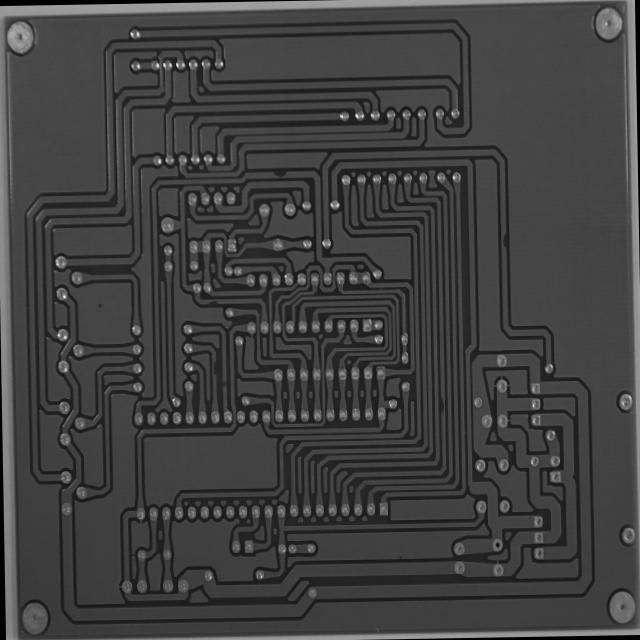mouse_bite: (498, 230, 508, 252), (270, 168, 288, 180), (438, 394, 447, 416), (210, 358, 218, 378), (205, 296, 219, 306)
